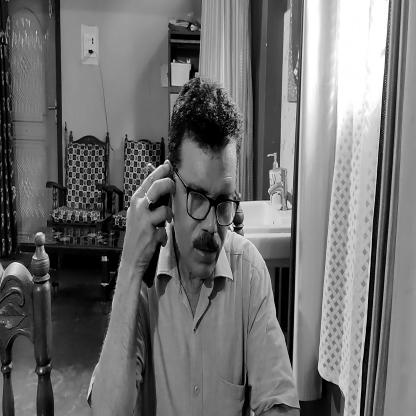Distracted: (166, 62, 238, 294)
